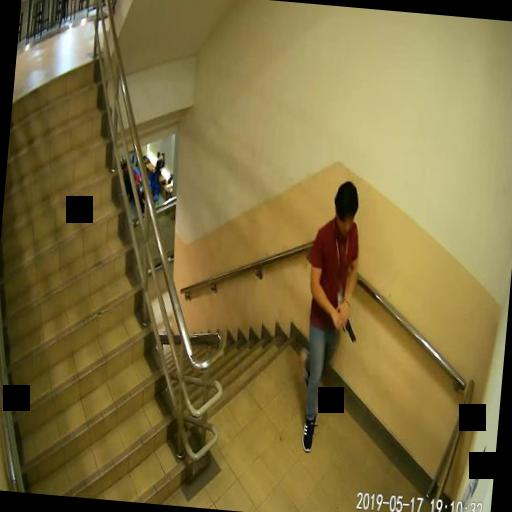Handgun: (334, 307, 356, 338)
